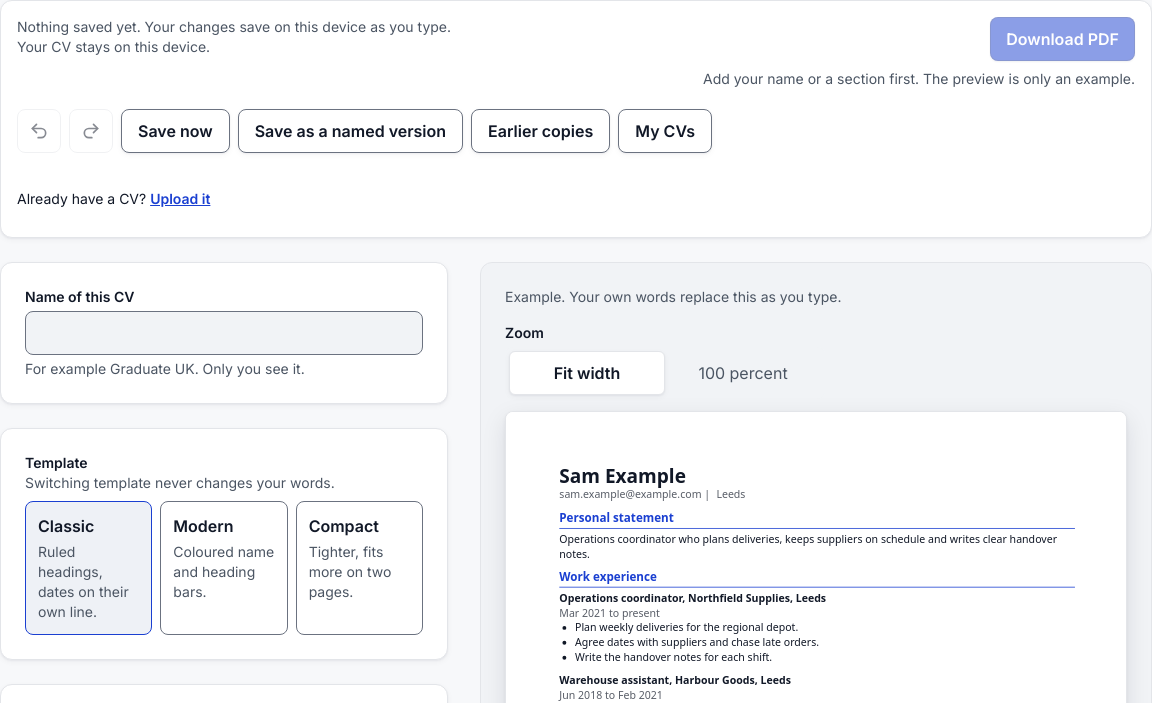
Test: list screen › shows a plain empty state
Click the button "My CVs".
click(665, 131)  # box [618,109,712,153]
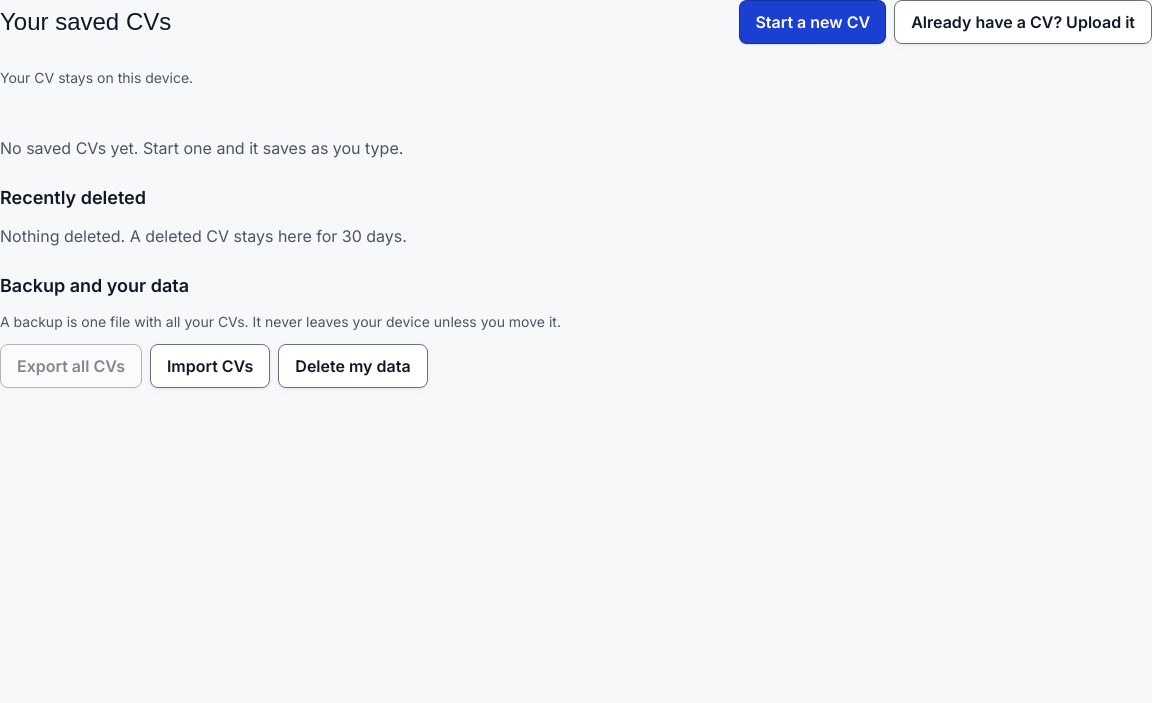
Check: the heading "Your saved CVs" is shown, box [0,6,171,38]
Check: the text "No saved CVs yet. Start one and it saves as you type." is shown, box [0,138,403,158]
Check: the text "Nothing deleted. A deleted CV stays here for 30 days." is shown, box [0,226,407,246]
